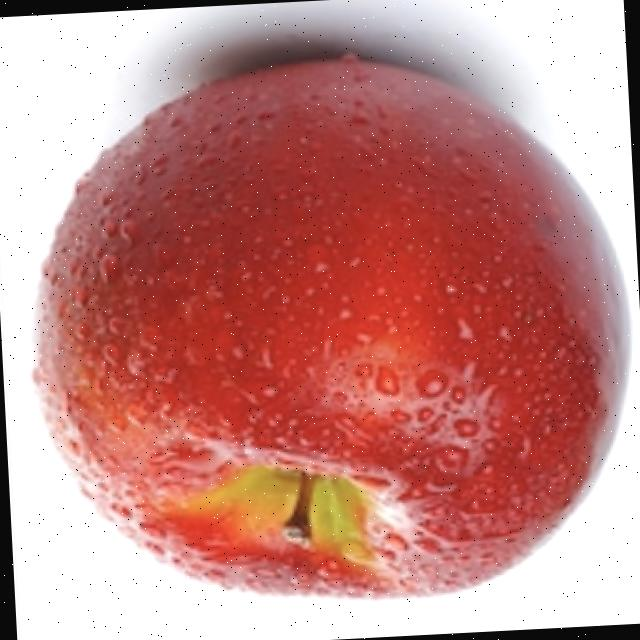Ripe: (14, 32, 640, 623)
